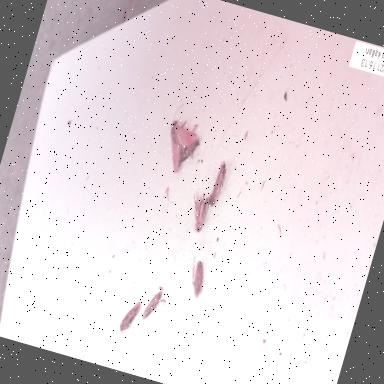pbw: (184, 190, 216, 236), (183, 256, 211, 300), (207, 160, 230, 210), (118, 298, 142, 336), (139, 287, 163, 323), (177, 134, 201, 168)
